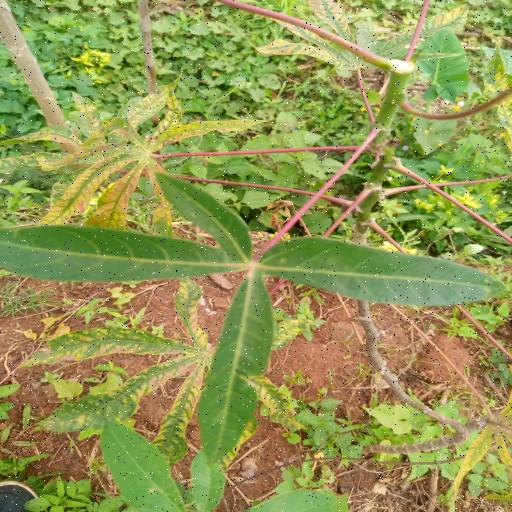Cassava_Mosaic: (4, 167, 496, 466), (21, 276, 302, 469), (11, 90, 262, 225)
